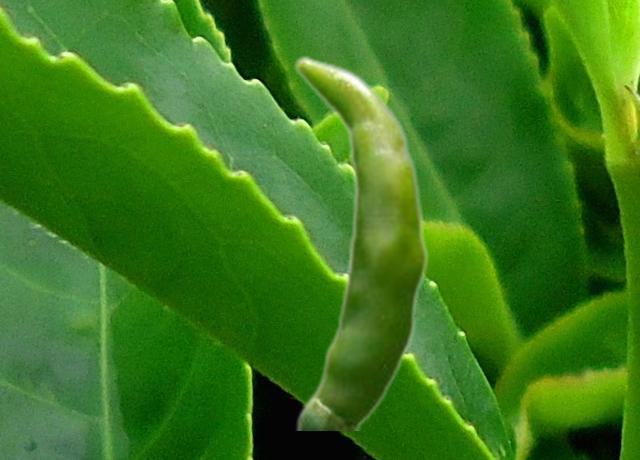green_chili: (292, 54, 429, 429)
